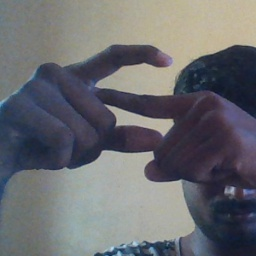E: (68, 41, 183, 161)
